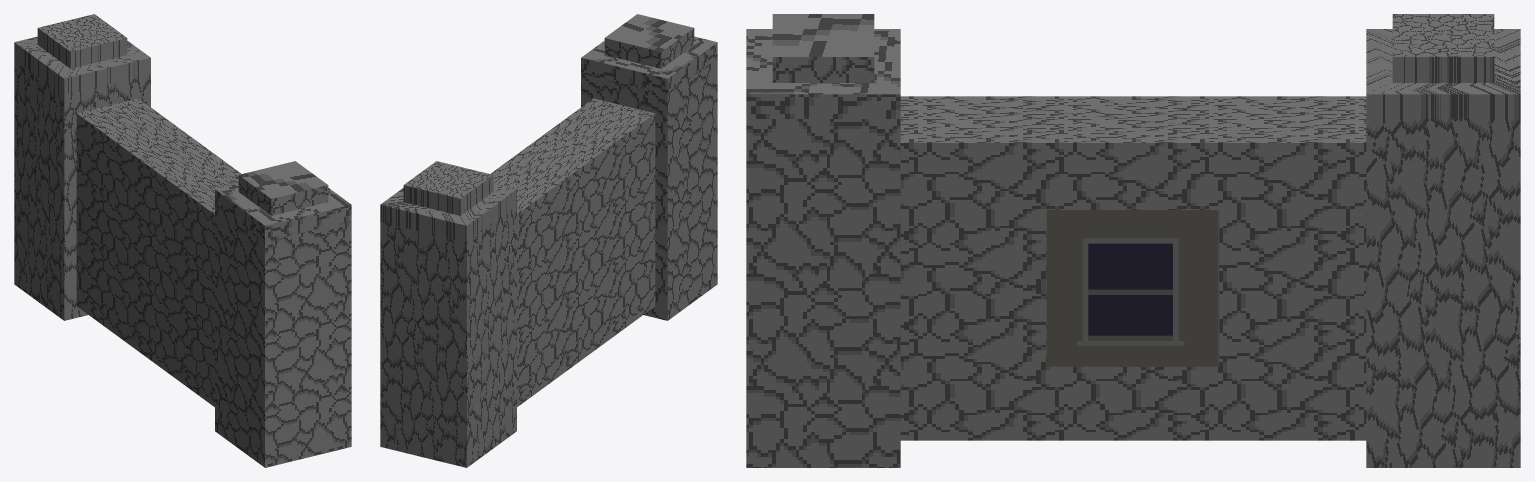
3 renders of one model, left to right at view 1: azimuth 30°, elevation 25°; view 2: azimuth 150°, elevation 25°; view 3: azimuth 270°, elevation 25°, orthographic. The views are drawn at different scales.
Parts seen in each view (by area): view 1: Cube.001, Cube.002, Cube; view 2: Cube, Cube.002, Cube.001; view 3: Cube.002, Cube, Cube.001, Builidng Roof and Wall Road Sidewalk and Grass.
Boxes of the visible parts, x1,y1,x2,y2 form: Cube.001: [215, 161, 351, 467]; Cube.002: [76, 98, 241, 406]; Cube: [14, 14, 150, 320]; Cube: [380, 161, 516, 467]; Cube.002: [490, 98, 655, 406]; Cube.001: [581, 14, 717, 320]; Cube.002: [900, 96, 1366, 440]; Cube: [1366, 14, 1520, 467]; Cube.001: [746, 14, 900, 467]; Builidng Roof and Wall Road Sidewalk and Grass: [1046, 210, 1219, 366].
Size of the model in its own units: 2 by 5.72 by 10.03.
2 materials, 2 textured.
